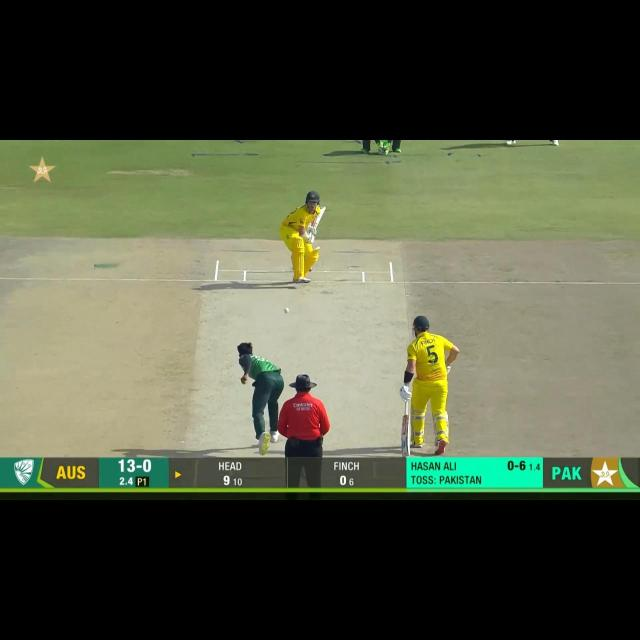bat: (310, 206, 326, 240), (400, 417, 410, 456)
toe: (400, 448, 410, 456), (319, 206, 327, 213)
